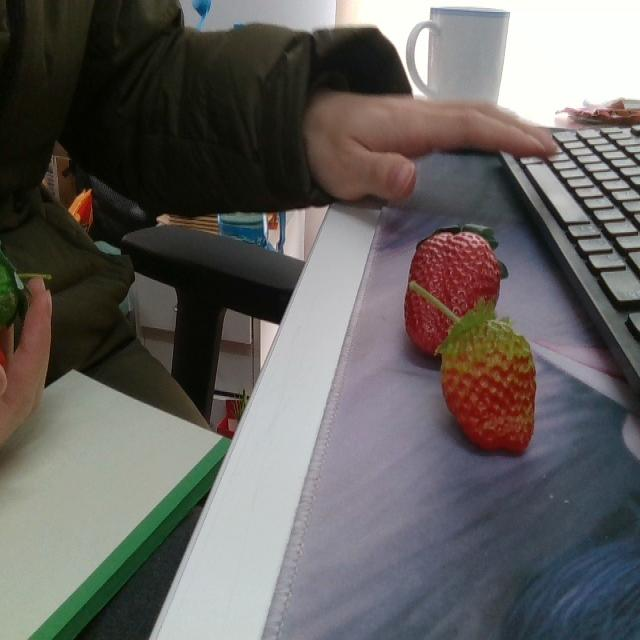immature: (443, 320, 537, 450)
mature: (404, 229, 500, 352)
